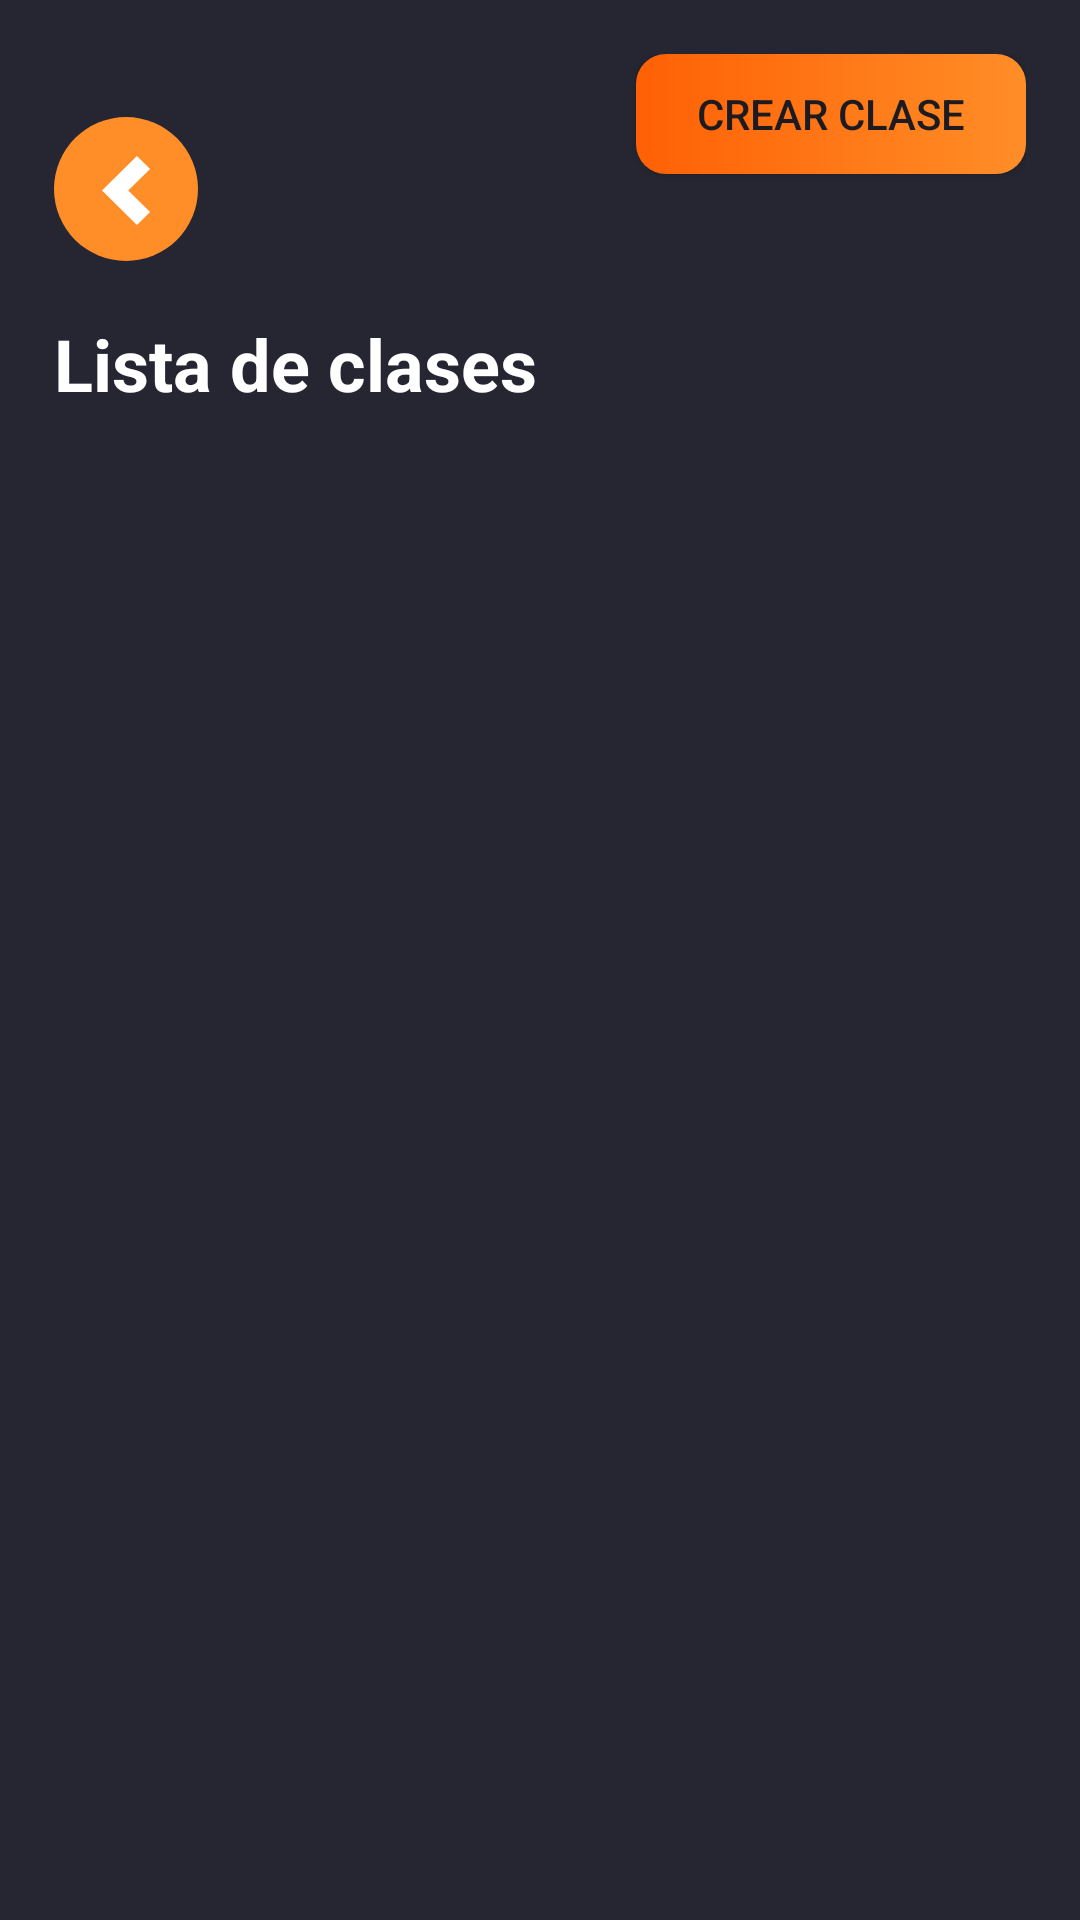

Screen size 1080 × 1920. Icon name, then its box in pixels as (x1, y1, x2, y2):
Volver: (54, 117, 198, 261)
